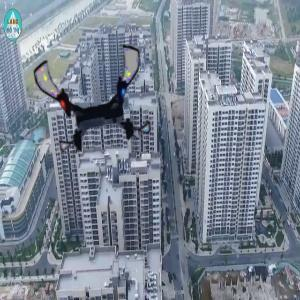drone: (38, 44, 149, 155)
